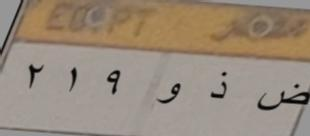1: (60, 62, 88, 104)
2: (15, 58, 49, 92)
9: (98, 64, 130, 101)
daad: (252, 81, 310, 118)
waw: (150, 76, 188, 111)
zaal: (204, 65, 234, 106)
